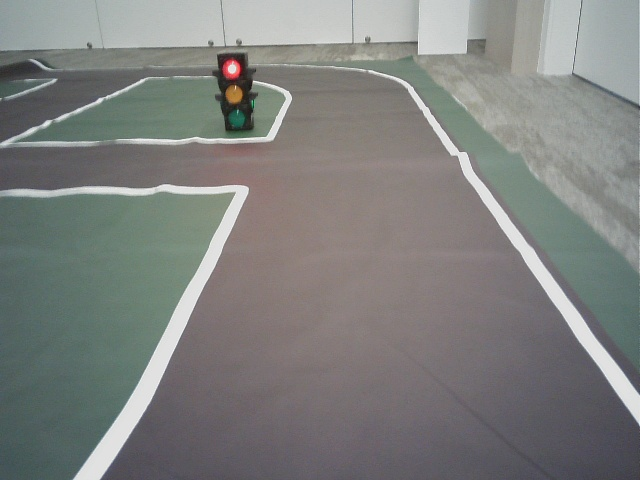red: (220, 55, 248, 127)
